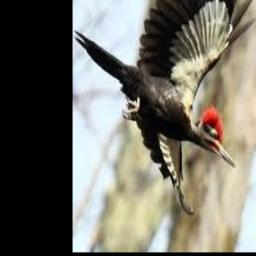Woodpecker: (74, 0, 256, 214)
